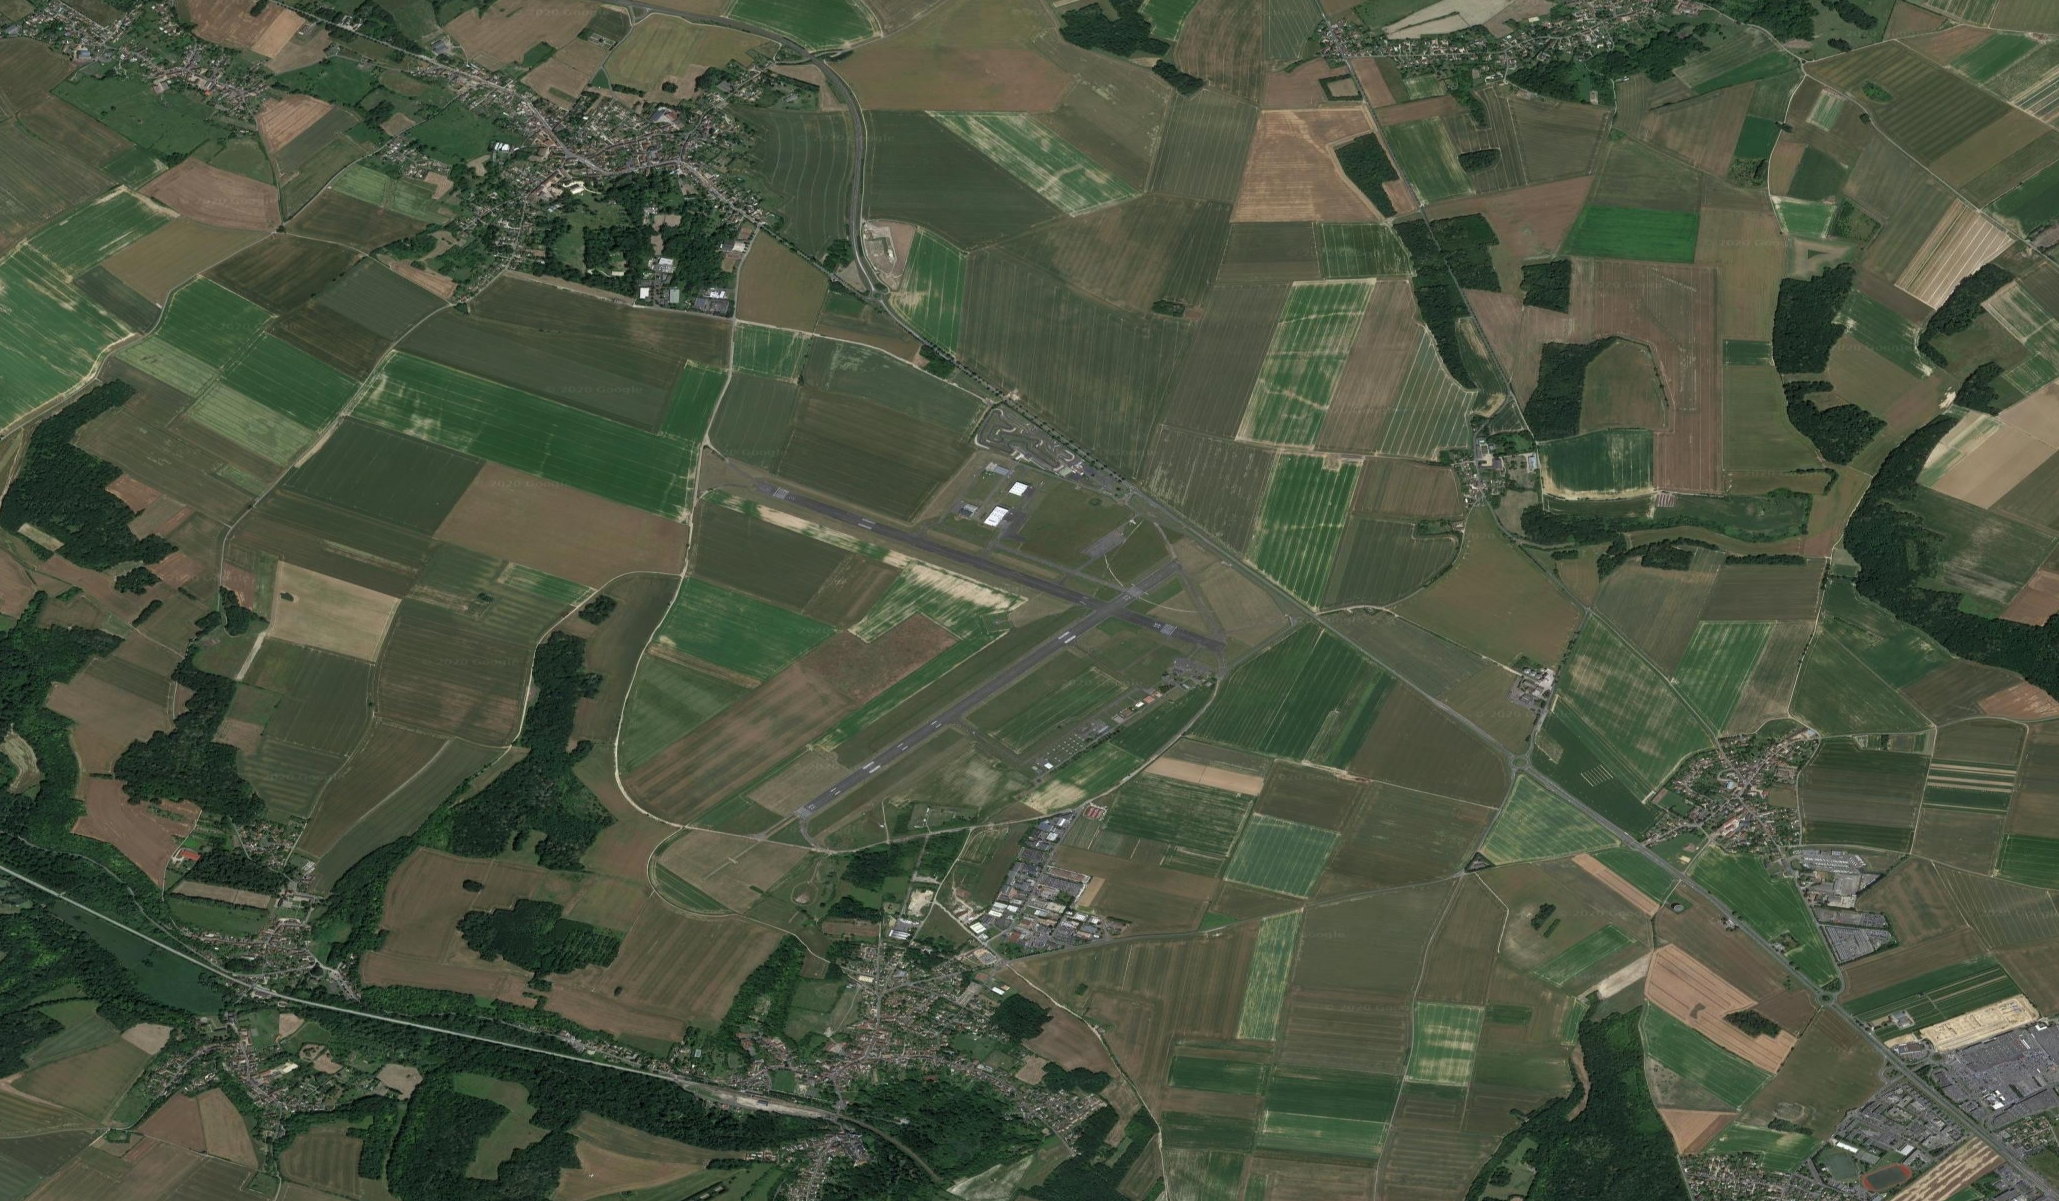airport: (744, 455, 1233, 826)
motorway: (1917, 1077, 2059, 1201), (1147, 495, 1303, 605), (1005, 402, 1160, 508), (1428, 698, 1579, 805), (891, 305, 1025, 419), (608, 1, 826, 71), (1295, 599, 1438, 705), (1806, 974, 1925, 1087), (1692, 884, 1810, 989), (1571, 799, 1699, 895), (848, 192, 901, 317), (826, 64, 868, 192)
